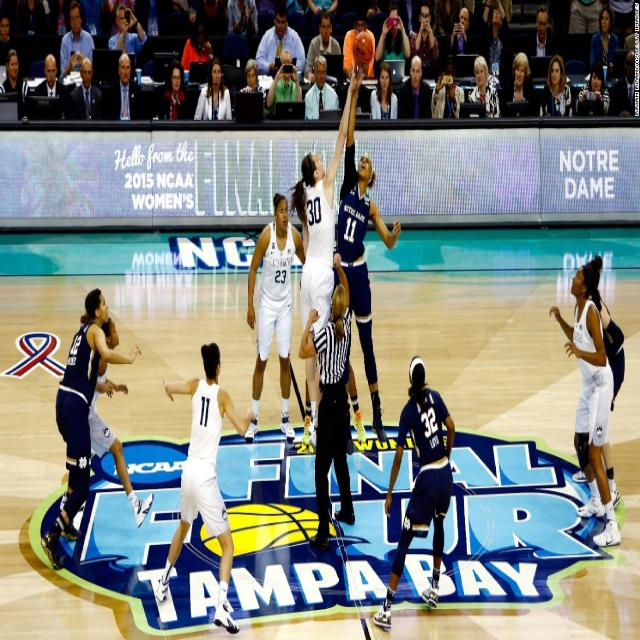body: (155, 341, 255, 638), (40, 287, 142, 571), (288, 60, 358, 456), (330, 65, 403, 444), (371, 352, 456, 632), (547, 260, 624, 549), (298, 252, 356, 551), (244, 191, 307, 446), (301, 220, 368, 448), (570, 254, 626, 520), (86, 314, 154, 530), (337, 60, 370, 197), (254, 2, 307, 79), (341, 2, 376, 115), (482, 0, 510, 119), (138, 0, 172, 97), (58, 4, 96, 87), (105, 49, 145, 121), (448, 6, 477, 102), (304, 12, 342, 84), (500, 50, 539, 116), (70, 56, 104, 131), (192, 58, 232, 121), (0, 0, 56, 44), (466, 54, 502, 121), (304, 54, 339, 121), (266, 49, 302, 114), (538, 54, 573, 118), (0, 48, 30, 122), (156, 60, 192, 121), (106, 3, 147, 56), (400, 54, 433, 119), (430, 63, 465, 120), (575, 61, 611, 116), (180, 16, 214, 74), (374, 6, 409, 62), (409, 4, 440, 67), (524, 4, 560, 57), (589, 8, 620, 68), (306, 10, 340, 64), (369, 60, 398, 120), (33, 53, 69, 98), (239, 57, 265, 119), (274, 3, 305, 54), (608, 0, 636, 49), (615, 50, 635, 116), (569, 0, 602, 35), (398, 0, 422, 40), (231, 0, 256, 36), (625, 26, 640, 76)
